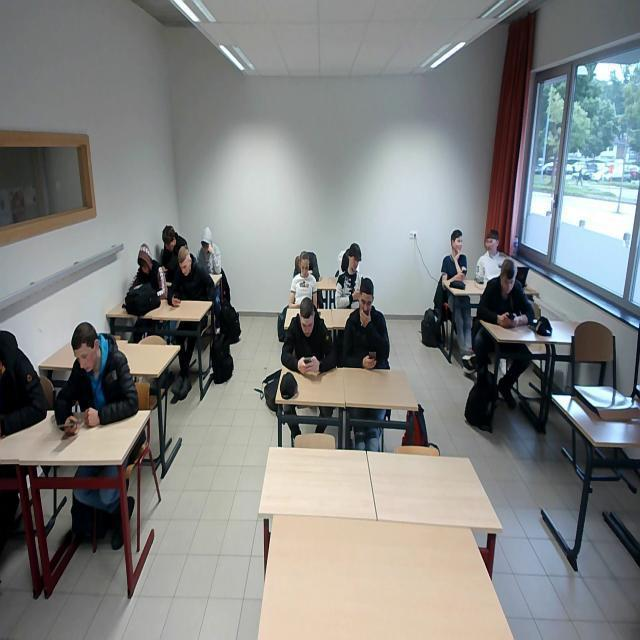Looking away: (134, 243, 150, 276), (300, 250, 311, 279), (486, 231, 500, 253)
Phone use: (54, 314, 138, 434), (334, 282, 390, 371), (280, 296, 330, 378), (482, 254, 536, 326), (165, 249, 218, 316), (332, 236, 365, 306), (150, 223, 184, 280), (440, 227, 470, 288)
